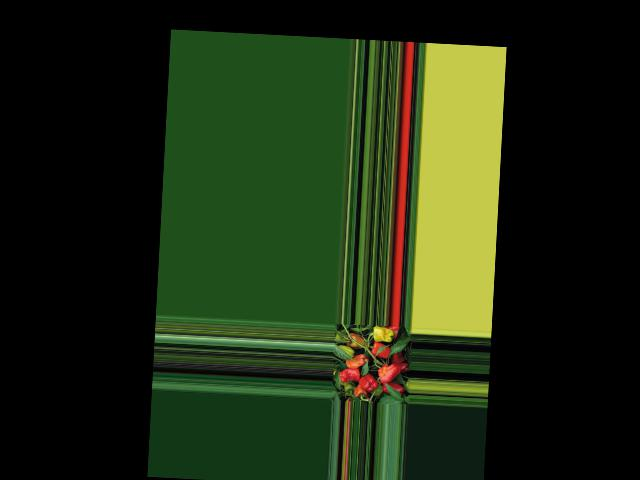bell_pepper: (353, 385, 364, 398)
